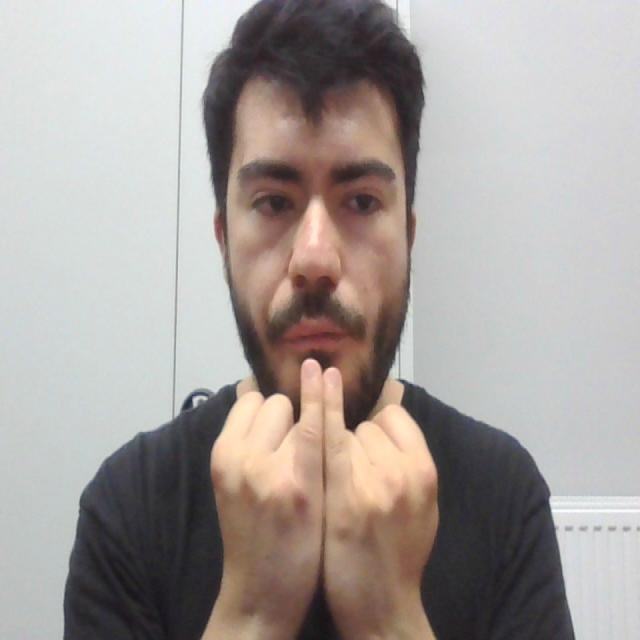Kardes: (203, 355, 441, 630)
